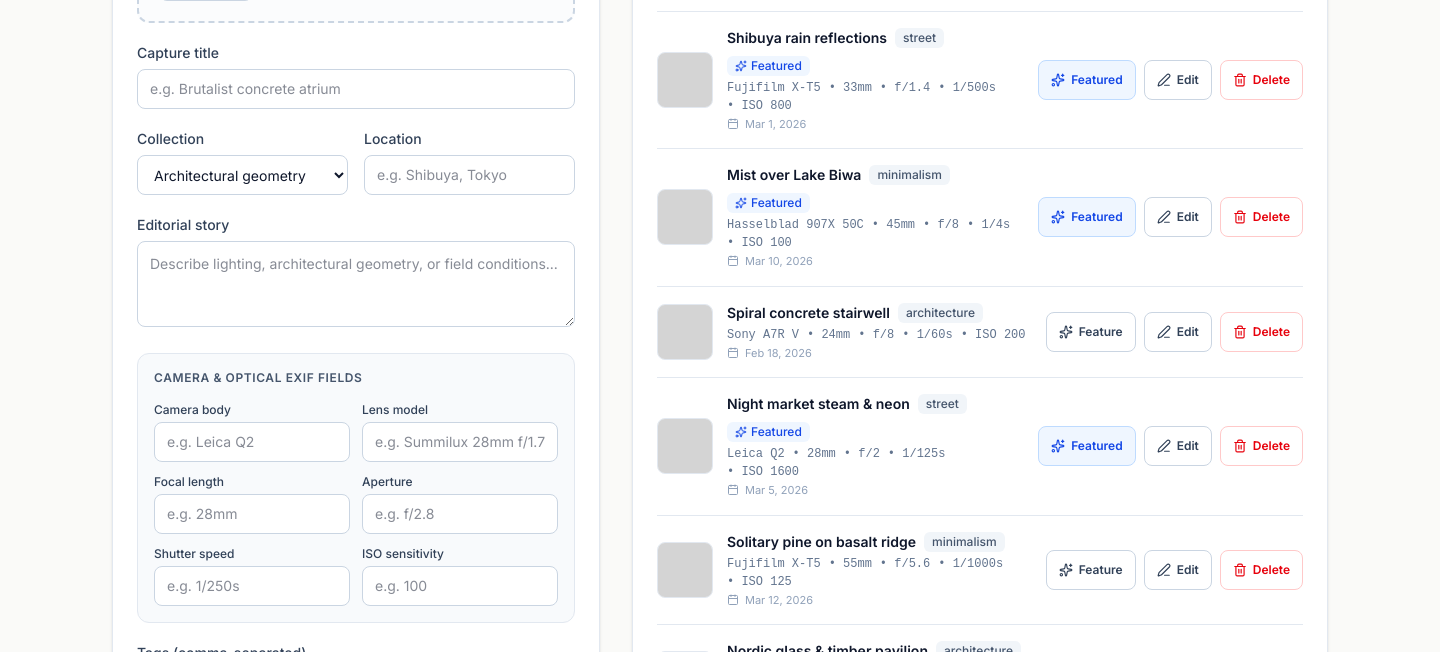
Scenario: Empirical Challenger: Admin Curation Studio Adversarial Suite › 5. Inline featured toggle action › features an unfeatured capture inline, toggling badge and button styling
The image size is (1440, 652).
(page scrolled)
# Click to feature
Click the button with aria-label "feature spiral concrete stairwell": (1091, 332) [1046,312,1136,352]
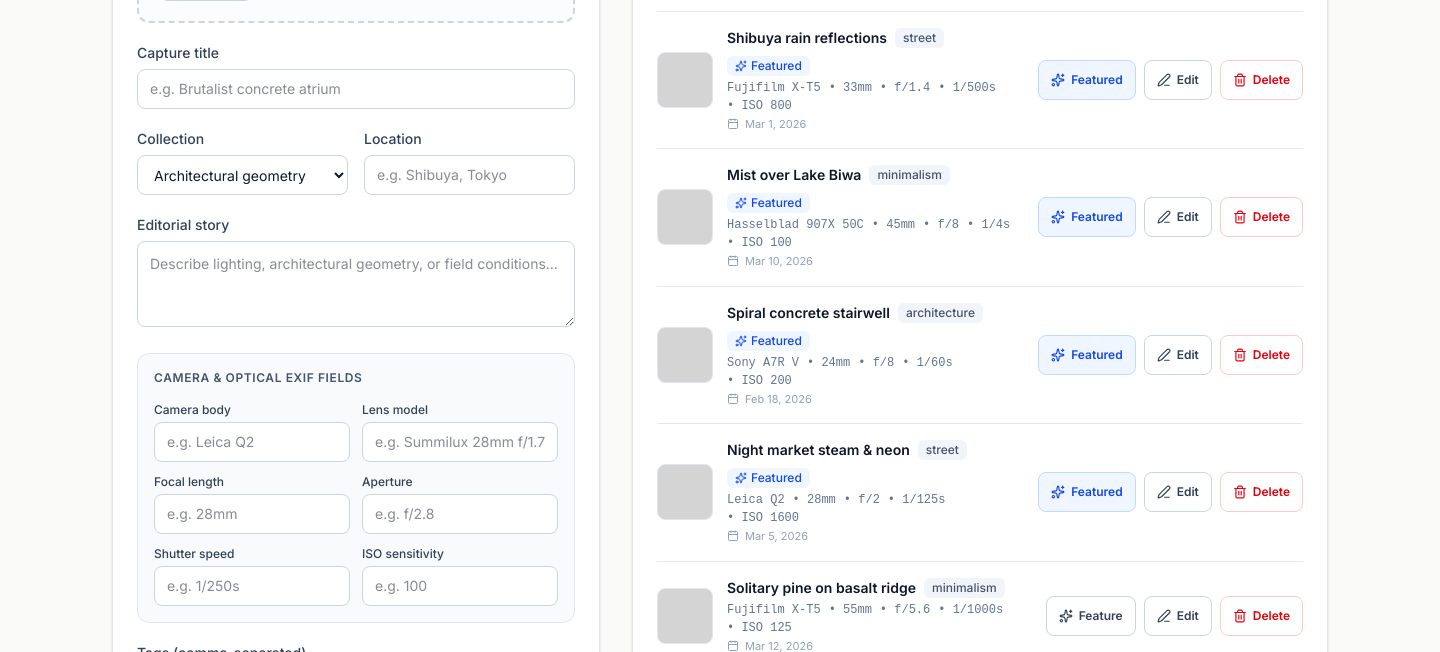
Expected: the button with aria-label "unfeature spiral concrete stairwell" reads "Featured"
Click the button with aria-label "unfeature spiral concrete stairwell": (1087, 355) [1038,335,1136,375]
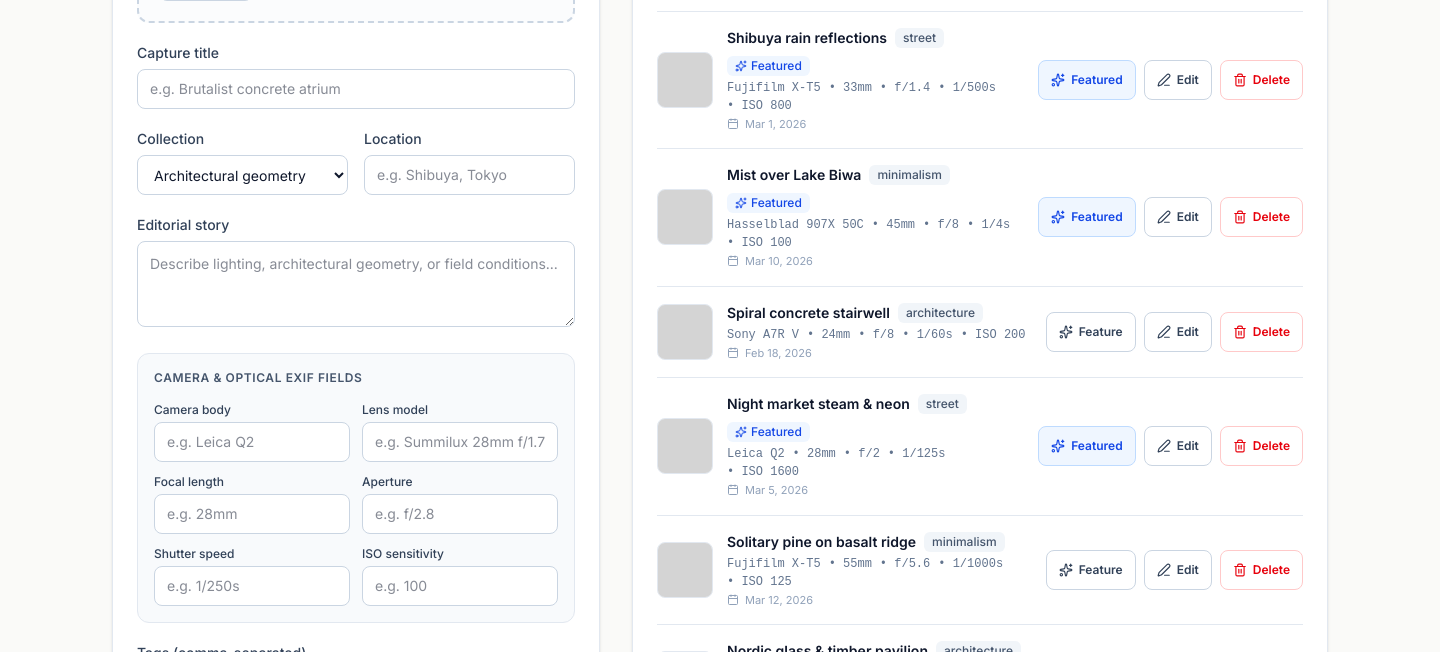
Expected: the button with aria-label "feature spiral concrete stairwell" reads "Feature", [1046,312,1136,352]
